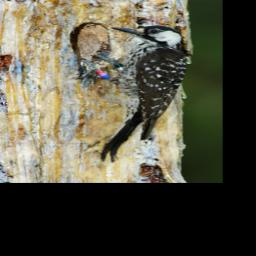Woodpecker: (80, 25, 190, 162)
